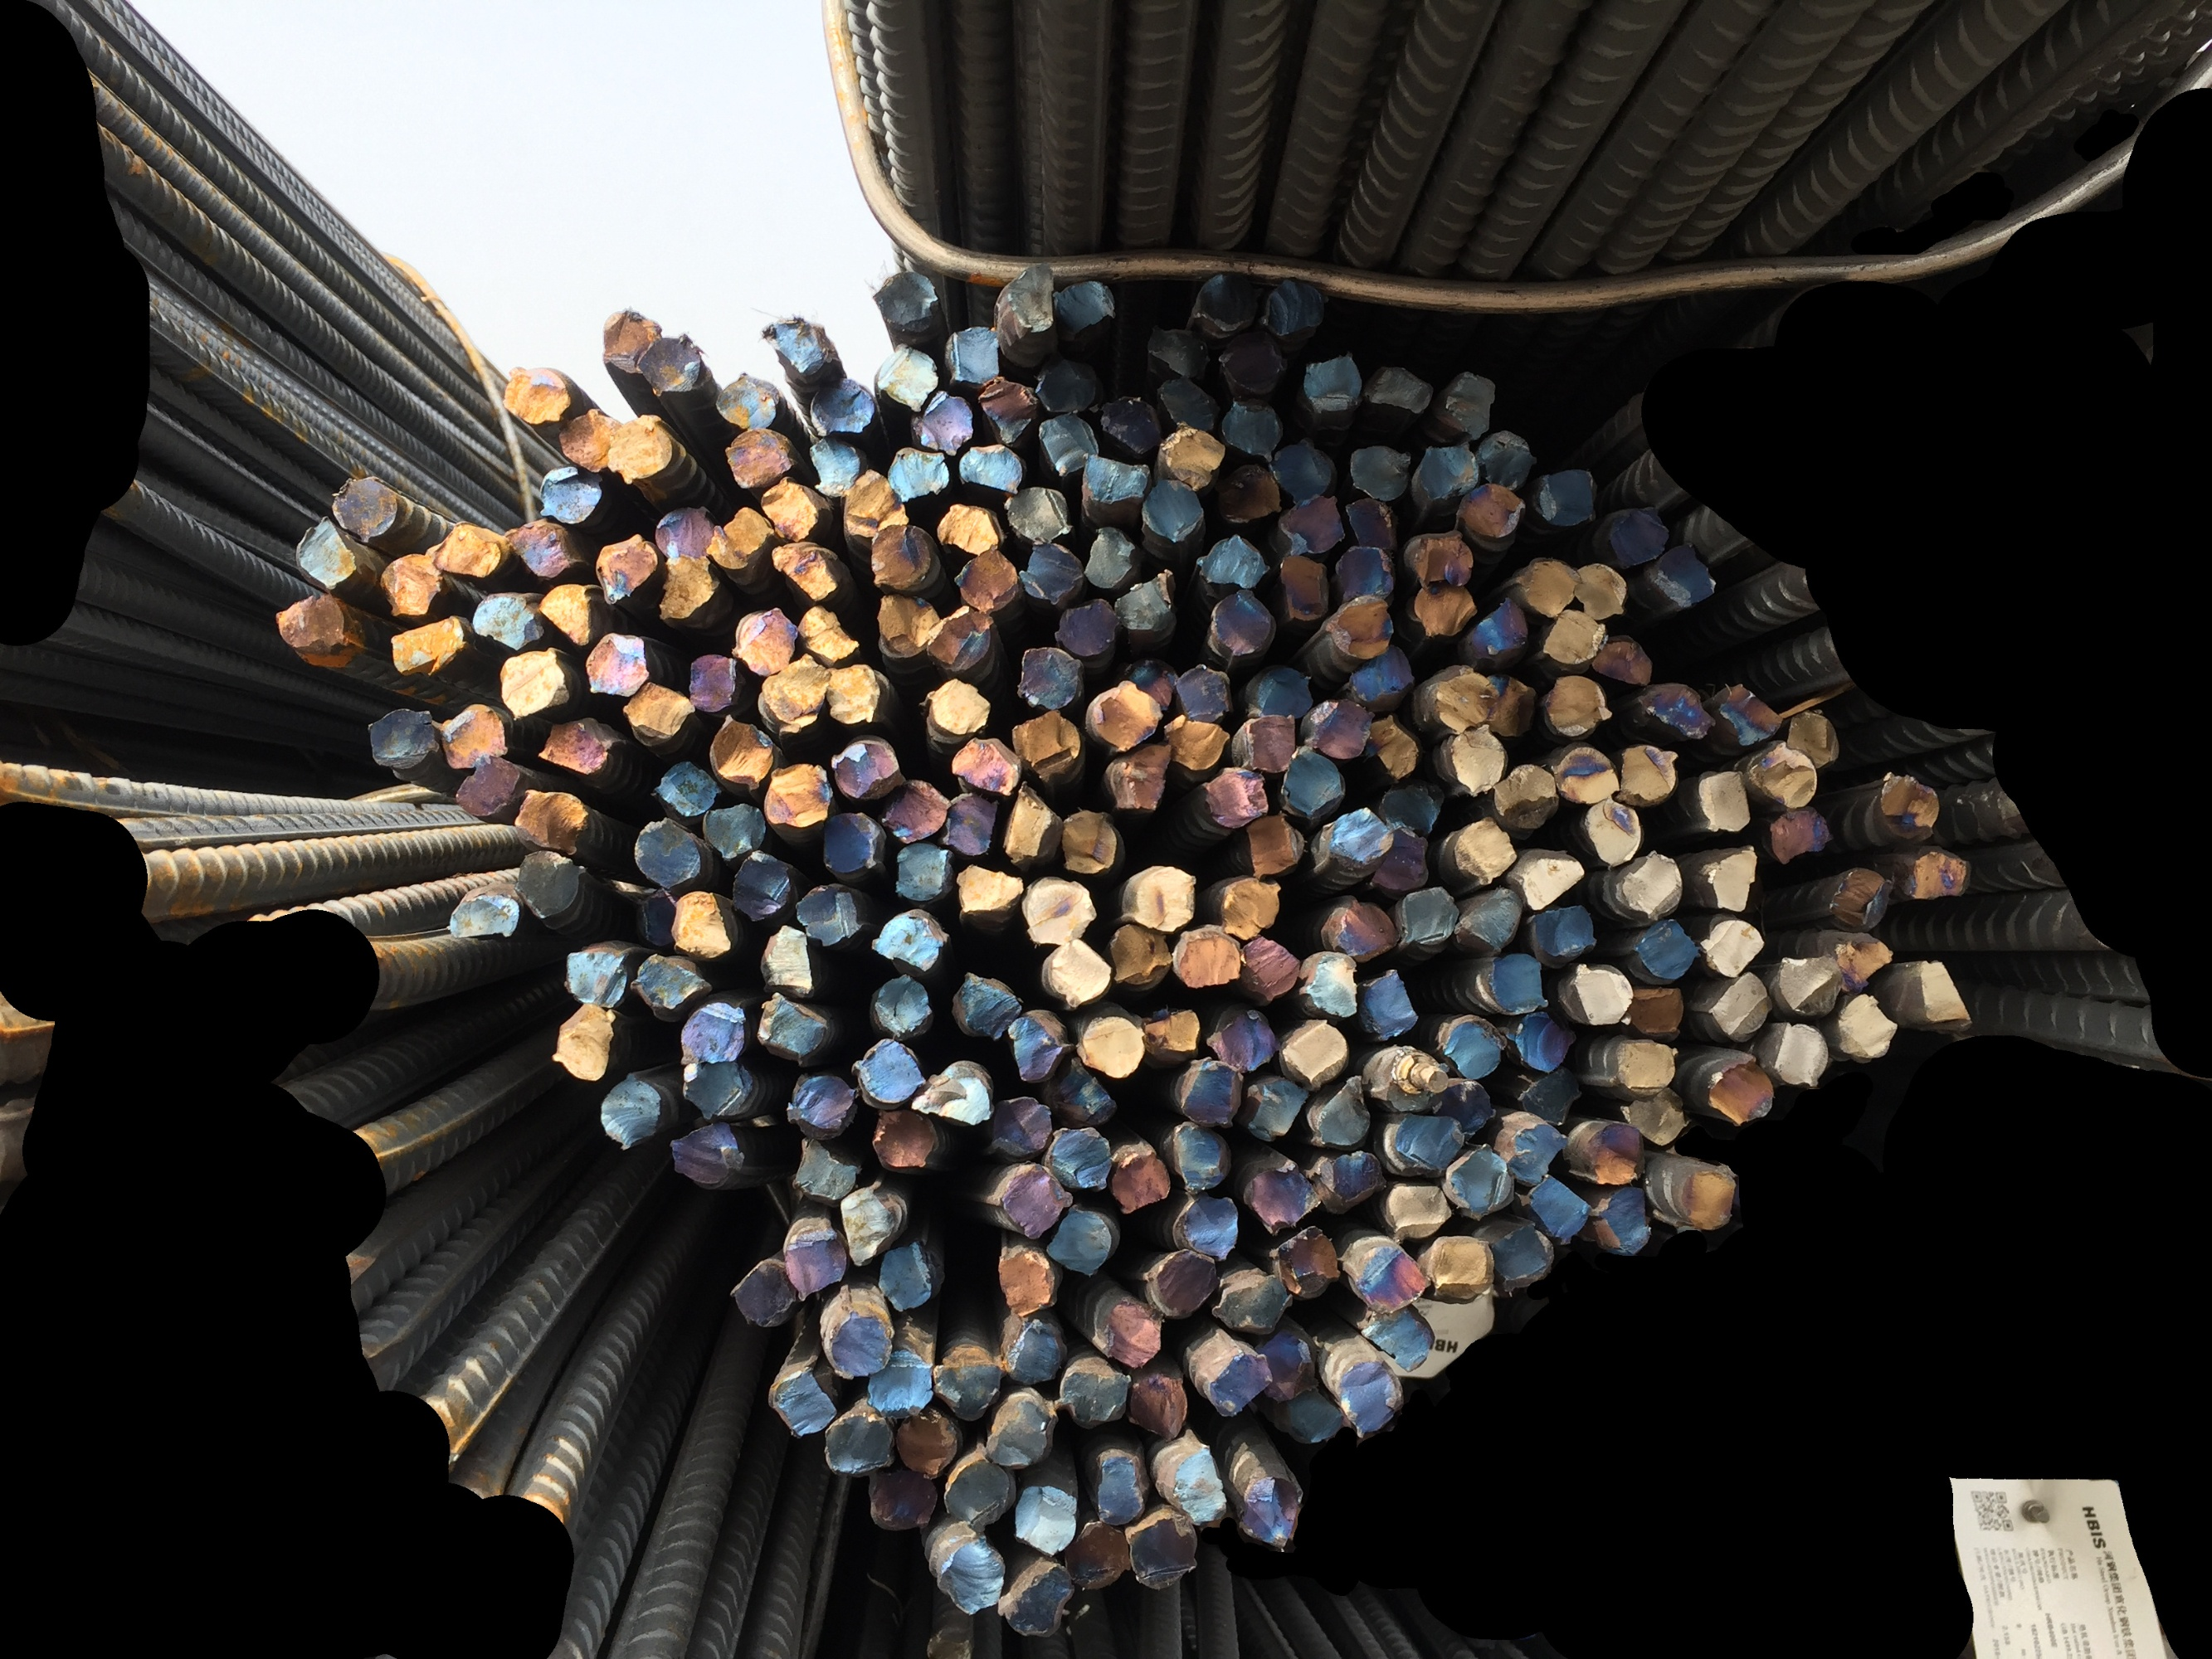rebar: (272, 592, 363, 667), (1234, 1467, 1307, 1558), (1330, 1347, 1403, 1438), (533, 714, 622, 788), (992, 1162, 1072, 1241), (821, 1293, 892, 1380), (293, 516, 370, 594), (755, 992, 833, 1068), (1243, 1154, 1320, 1232), (1009, 709, 1089, 784), (912, 1054, 995, 1126), (760, 653, 830, 739), (551, 1002, 624, 1082), (1002, 1560, 1075, 1640), (985, 1387, 1056, 1469), (1344, 1244, 1428, 1314), (840, 1182, 906, 1269), (1515, 1173, 1591, 1248), (1865, 770, 1940, 847), (945, 1452, 1018, 1530), (668, 1121, 748, 1192), (1211, 1263, 1292, 1335), (1044, 1056, 1119, 1131), (364, 706, 441, 779), (708, 714, 781, 791), (1089, 676, 1163, 753), (1903, 958, 1975, 1037), (767, 1359, 837, 1439), (1130, 1511, 1199, 1591), (1138, 1248, 1218, 1317), (936, 1532, 1004, 1614), (1487, 1218, 1555, 1300), (497, 647, 570, 721), (516, 847, 587, 924), (1203, 1000, 1279, 1072), (781, 1070, 859, 1140), (389, 613, 469, 681), (1449, 1143, 1517, 1223), (1633, 678, 1717, 742), (1161, 1441, 1224, 1527), (438, 695, 509, 770), (933, 1349, 1004, 1424), (1123, 859, 1198, 931), (1170, 1058, 1245, 1129), (621, 681, 697, 751), (1271, 1222, 1340, 1298), (1389, 1108, 1466, 1178), (1705, 1049, 1774, 1126), (329, 476, 408, 544), (708, 504, 774, 584), (424, 521, 512, 580), (1074, 1009, 1147, 1080), (1042, 938, 1114, 1011), (1208, 589, 1279, 662), (1489, 760, 1560, 833), (631, 816, 706, 885), (1058, 1359, 1128, 1434), (1021, 875, 1096, 945), (1611, 850, 1686, 920), (516, 788, 593, 856), (1255, 1323, 1320, 1403), (629, 951, 711, 1014), (1091, 1297, 1163, 1368), (1048, 1204, 1117, 1277), (870, 525, 943, 594), (1424, 1234, 1494, 1307), (1215, 328, 1288, 397), (608, 413, 676, 488), (657, 554, 725, 629), (727, 1255, 795, 1330), (866, 1342, 934, 1417), (763, 314, 840, 380), (1668, 1159, 1734, 1236), (596, 530, 661, 608), (872, 906, 950, 971), (1506, 843, 1584, 908), (601, 1072, 662, 1154), (1086, 1443, 1147, 1525), (1278, 1016, 1349, 1086), (1649, 542, 1719, 613), (1203, 1344, 1271, 1417), (1107, 741, 1175, 814), (1832, 992, 1898, 1066), (1014, 1478, 1079, 1554), (1616, 735, 1680, 812), (504, 519, 584, 580), (788, 1136, 859, 1204), (824, 1410, 896, 1478), (795, 880, 866, 948), (1163, 1122, 1234, 1190), (1328, 896, 1400, 964), (1279, 746, 1347, 817), (1442, 725, 1510, 796), (894, 1406, 960, 1480), (852, 1039, 926, 1105), (955, 967, 1021, 1040), (1210, 875, 1283, 941), (1558, 962, 1632, 1028), (730, 850, 795, 925), (783, 1225, 847, 1300), (1623, 920, 1698, 985), (1822, 870, 1896, 934), (1006, 784, 1063, 868), (1504, 1110, 1567, 1187), (1600, 1033, 1677, 1096), (1309, 1148, 1388, 1209), (1006, 1006, 1065, 1086), (873, 589, 943, 657), (929, 605, 997, 674), (952, 545, 1021, 613), (842, 469, 912, 537), (1114, 568, 1182, 638), (1157, 422, 1225, 491), (1365, 824, 1435, 892), (1450, 816, 1518, 885), (1706, 971, 1774, 1040), (868, 1467, 940, 1534), (1067, 1520, 1133, 1591), (873, 267, 945, 333), (1014, 643, 1086, 709), (772, 538, 845, 603), (1747, 742, 1820, 807), (1621, 1086, 1694, 1150), (1239, 934, 1302, 1009), (682, 1061, 758, 1122), (997, 1241, 1058, 1317), (1313, 1073, 1374, 1150), (1438, 364, 1499, 441), (758, 924, 818, 1002), (823, 660, 891, 728), (1241, 1073, 1309, 1141), (1175, 925, 1245, 992), (1170, 1192, 1239, 1258), (1379, 1047, 1445, 1117), (1578, 1122, 1647, 1188), (1459, 884, 1525, 953), (676, 999, 748, 1063), (760, 477, 831, 542), (1002, 483, 1074, 547), (1396, 884, 1461, 955), (1579, 795, 1644, 866), (830, 737, 903, 800), (1271, 1385, 1344, 1448), (1110, 1140, 1171, 1215), (1063, 805, 1123, 882), (1360, 1309, 1436, 1368), (767, 763, 833, 831), (1243, 814, 1311, 880), (1382, 1178, 1450, 1244), (378, 552, 443, 622), (730, 606, 795, 676), (1482, 950, 1551, 1014), (1551, 741, 1621, 805), (875, 340, 938, 411), (1051, 596, 1123, 659), (1034, 352, 1105, 415), (1590, 1188, 1652, 1260), (999, 265, 1055, 345), (671, 889, 732, 962), (722, 427, 795, 488), (1128, 1368, 1189, 1441), (1513, 1068, 1588, 1127), (1046, 1126, 1112, 1192), (908, 390, 974, 457), (1192, 267, 1259, 333), (453, 755, 521, 819), (561, 945, 629, 1009), (821, 810, 885, 878), (1018, 542, 1086, 606), (1143, 479, 1208, 547), (1438, 1018, 1506, 1082), (582, 633, 652, 695), (504, 364, 573, 427), (600, 308, 662, 378), (1323, 803, 1393, 866), (1773, 955, 1842, 1018), (448, 884, 519, 945), (1259, 275, 1330, 336), (1363, 361, 1435, 422), (1455, 481, 1527, 542), (980, 375, 1039, 448), (1300, 948, 1360, 1021), (1368, 711, 1428, 784), (1239, 662, 1314, 720), (1196, 535, 1272, 591), (1001, 1317, 1065, 1384), (870, 974, 934, 1040), (884, 775, 948, 842), (1096, 392, 1163, 457), (1203, 765, 1269, 829), (1536, 465, 1602, 530), (1429, 664, 1496, 728), (1110, 925, 1173, 993), (1543, 674, 1611, 737), (652, 760, 722, 821), (537, 464, 607, 525), (870, 1110, 940, 1171), (922, 674, 992, 735), (1304, 699, 1374, 760), (472, 591, 544, 650), (950, 735, 1021, 795), (1361, 967, 1421, 1039), (1143, 326, 1215, 385), (1823, 932, 1895, 992), (1900, 847, 1971, 906), (1700, 843, 1759, 915), (880, 1239, 938, 1312), (807, 378, 880, 436), (1344, 647, 1417, 704), (934, 500, 1009, 556), (1035, 413, 1100, 477), (539, 582, 601, 648), (1055, 279, 1121, 342), (1719, 681, 1781, 748), (1163, 714, 1231, 775), (1213, 464, 1281, 525), (953, 863, 1023, 922), (1508, 1012, 1578, 1072), (1480, 671, 1539, 741), (1698, 917, 1768, 976), (1407, 580, 1478, 638), (640, 333, 702, 397), (992, 1094, 1055, 1159), (1515, 554, 1578, 619), (715, 368, 781, 429), (1279, 493, 1346, 554), (1532, 903, 1598, 964), (1691, 769, 1752, 835), (795, 603, 863, 662), (1539, 606, 1607, 666), (1274, 552, 1330, 624), (1332, 594, 1394, 657), (1081, 525, 1142, 589), (1415, 441, 1480, 502), (1304, 349, 1363, 415), (1469, 596, 1529, 662), (1278, 434, 1335, 502), (1762, 807, 1830, 864), (1375, 779, 1447, 833), (1236, 711, 1297, 774), (1222, 399, 1283, 462), (1175, 659, 1234, 723), (1407, 530, 1473, 587), (1774, 1019, 1829, 1089), (947, 789, 999, 861), (1607, 507, 1668, 568), (704, 802, 767, 861), (1347, 441, 1410, 500), (1335, 544, 1398, 603), (887, 444, 952, 502), (1082, 453, 1150, 507), (655, 504, 716, 563), (1440, 1077, 1501, 1136), (945, 322, 1002, 385), (1590, 629, 1652, 687), (1156, 376, 1220, 432), (959, 443, 1027, 495), (1143, 1002, 1203, 1061), (1119, 655, 1178, 714), (892, 842, 953, 899), (1787, 709, 1844, 770), (558, 408, 612, 472), (1574, 558, 1628, 622), (809, 434, 866, 493), (1626, 985, 1689, 1039), (1347, 497, 1403, 554), (689, 653, 741, 714), (1478, 429, 1534, 484), (633, 889, 680, 950)
